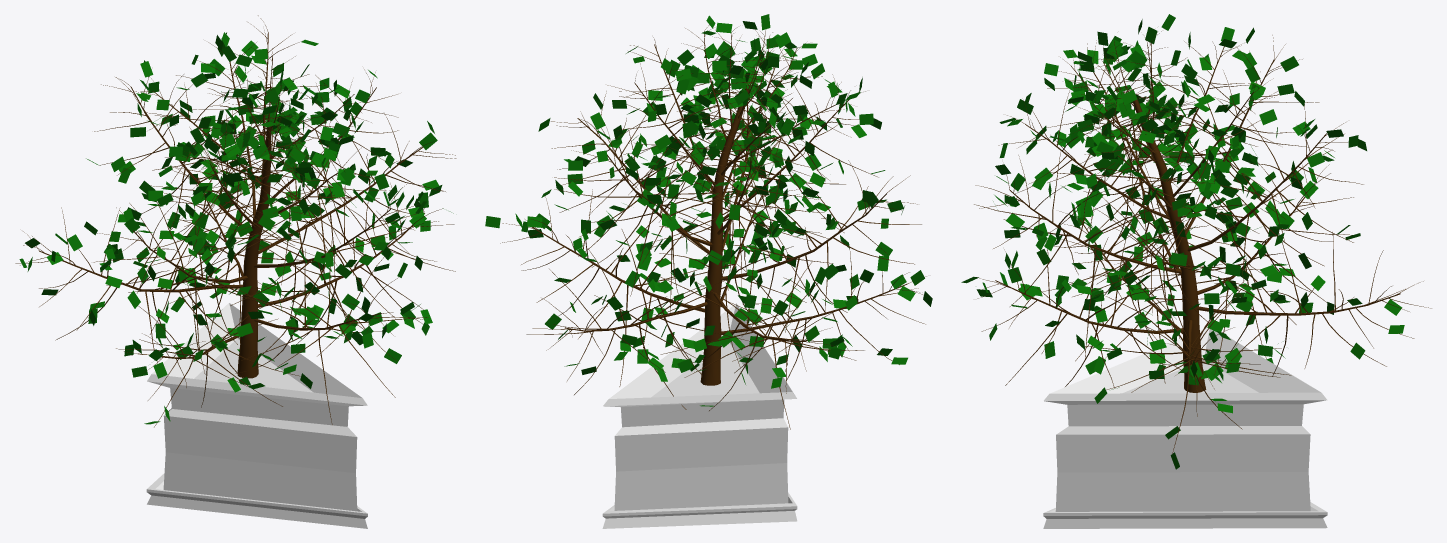
The model's file is TreeTest2.FBX.
3 views of the same model, side by side, from view 1: azimuth 30°, elevation 25°; view 2: azimuth 150°, elevation 25°; view 3: azimuth 270°, elevation 25° (orthographic). The views are drawn at different scales.
Parts seen in each view (by area): view 1: Foliage002, Box037; view 2: Foliage002, Box037; view 3: Foliage002, Box037.
Part boxes in pixels (x1,y1,x2,y2): Foliage002: [15, 15, 456, 427]; Box037: [146, 303, 367, 528]; Foliage002: [485, 14, 932, 429]; Box037: [602, 303, 797, 528]; Foliage002: [961, 14, 1431, 469]; Box037: [1043, 327, 1327, 528].
Bounding box in the file's own units: 116 × 131 × 117.
